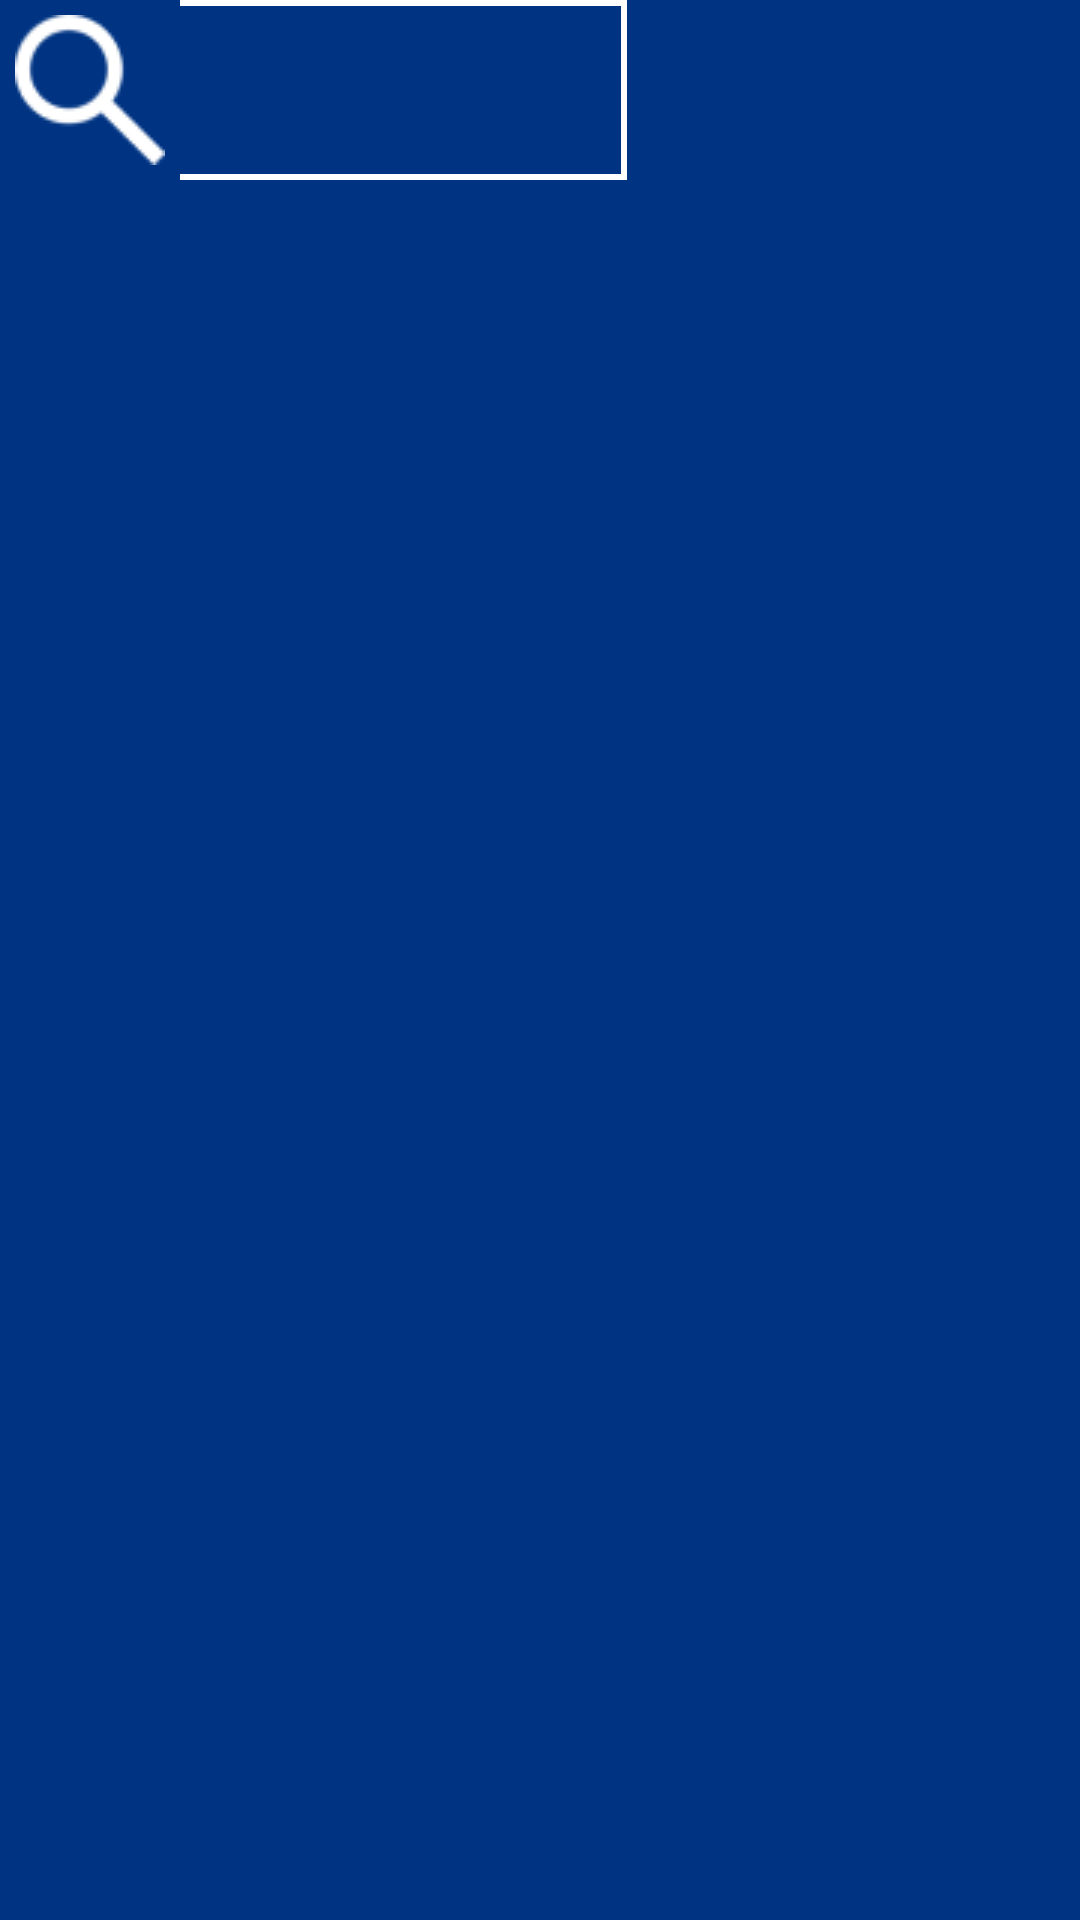

Icons on this 1080px x 1920px Android screen, each with its box as (x1,y1,x2,y2):
recherche: (15,15,165,165)
